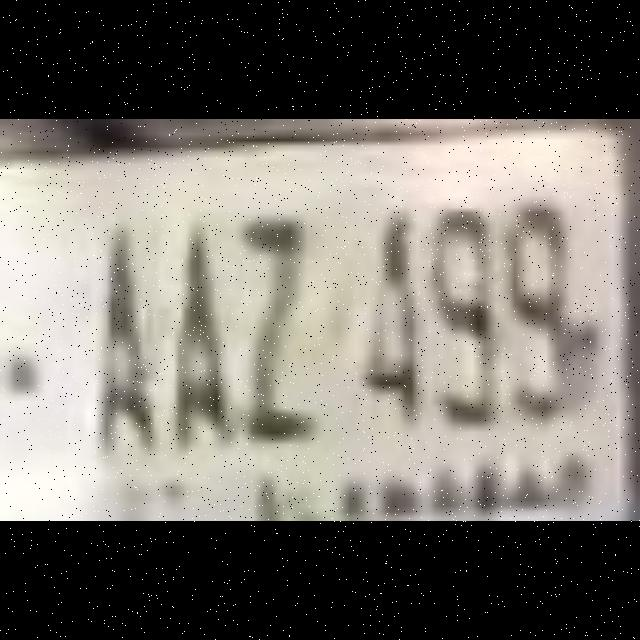4: (324, 180, 414, 454)
9: (501, 180, 592, 454), (412, 180, 502, 454)
A: (143, 180, 234, 454), (56, 180, 146, 454)
Z: (232, 180, 322, 454)
